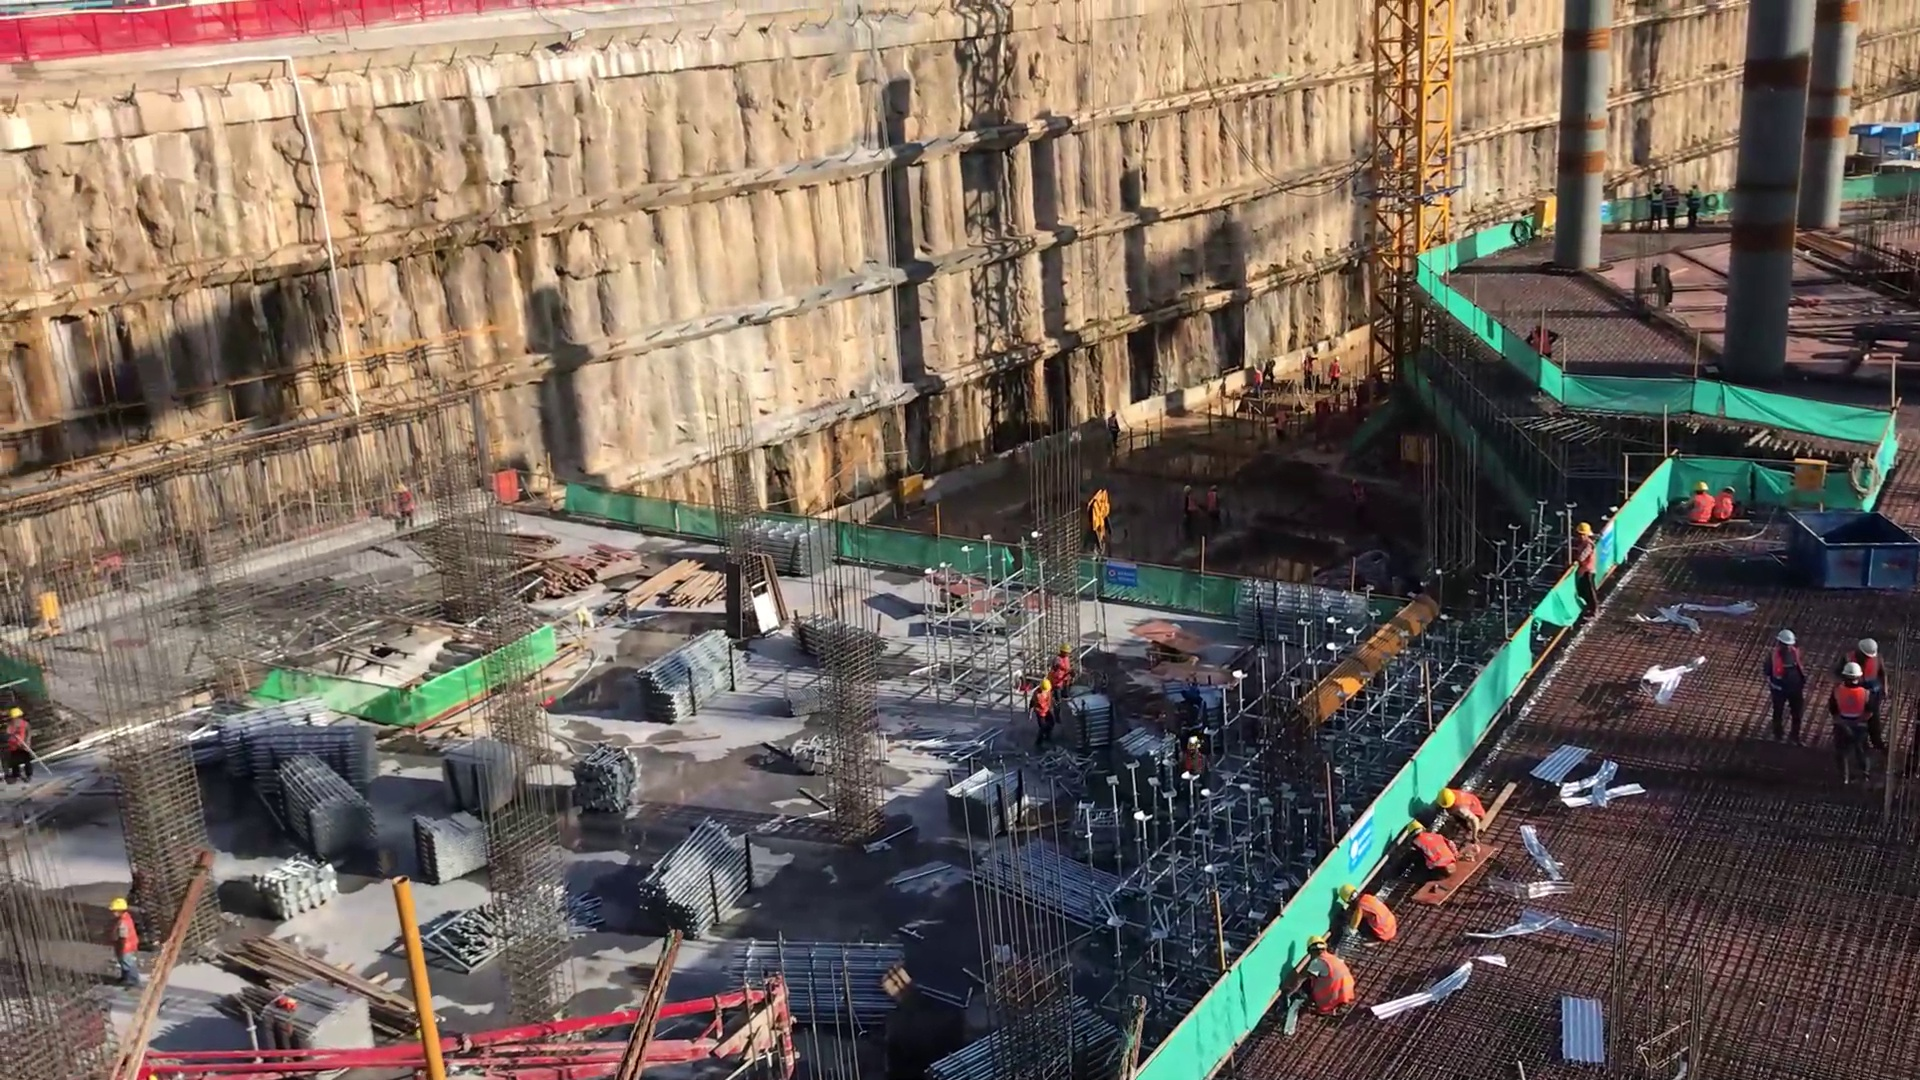helmet: (1770, 627, 1801, 649), (1838, 659, 1864, 684), (1402, 814, 1426, 840), (1856, 635, 1880, 658), (1433, 787, 1456, 811), (1338, 880, 1359, 905), (1303, 933, 1329, 953), (107, 895, 129, 915), (6, 702, 25, 724), (1573, 519, 1593, 539), (1055, 639, 1075, 658), (1691, 478, 1709, 494), (1036, 678, 1053, 692), (1721, 480, 1737, 495)
person: (1825, 659, 1876, 797), (1759, 624, 1813, 753), (1291, 931, 1364, 1026), (1333, 878, 1403, 955), (1398, 811, 1463, 886), (106, 892, 149, 999), (1842, 635, 1893, 723), (1431, 782, 1491, 849), (1570, 519, 1606, 625), (1, 697, 39, 791), (1025, 674, 1059, 758), (1682, 474, 1719, 530), (1048, 639, 1078, 707), (1712, 480, 1740, 530)
vest: (1302, 950, 1356, 1022), (1831, 683, 1871, 747), (1768, 649, 1812, 702), (1356, 892, 1399, 944), (1413, 829, 1458, 875), (1853, 655, 1889, 707), (1454, 785, 1487, 831), (109, 913, 140, 961), (2, 722, 31, 763), (1029, 689, 1056, 728), (1569, 540, 1597, 577), (1685, 492, 1713, 524), (1711, 492, 1735, 524), (1054, 657, 1075, 691)
